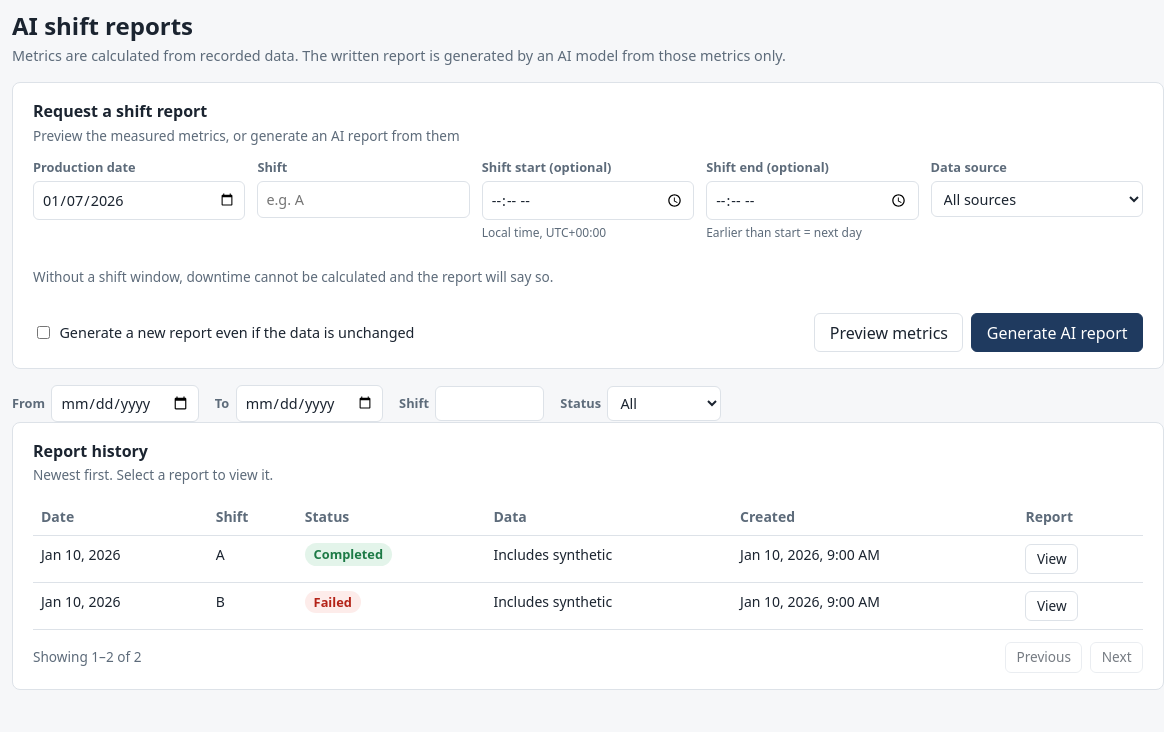
Test case: ReportsPage — form › validates locally before sending anything
Expected: the date field labelled "Production date" holds "2026-01-07", [33,181,245,220]
Click the button "Generate AI report" at (1057, 333), box [971,313,1143,352]
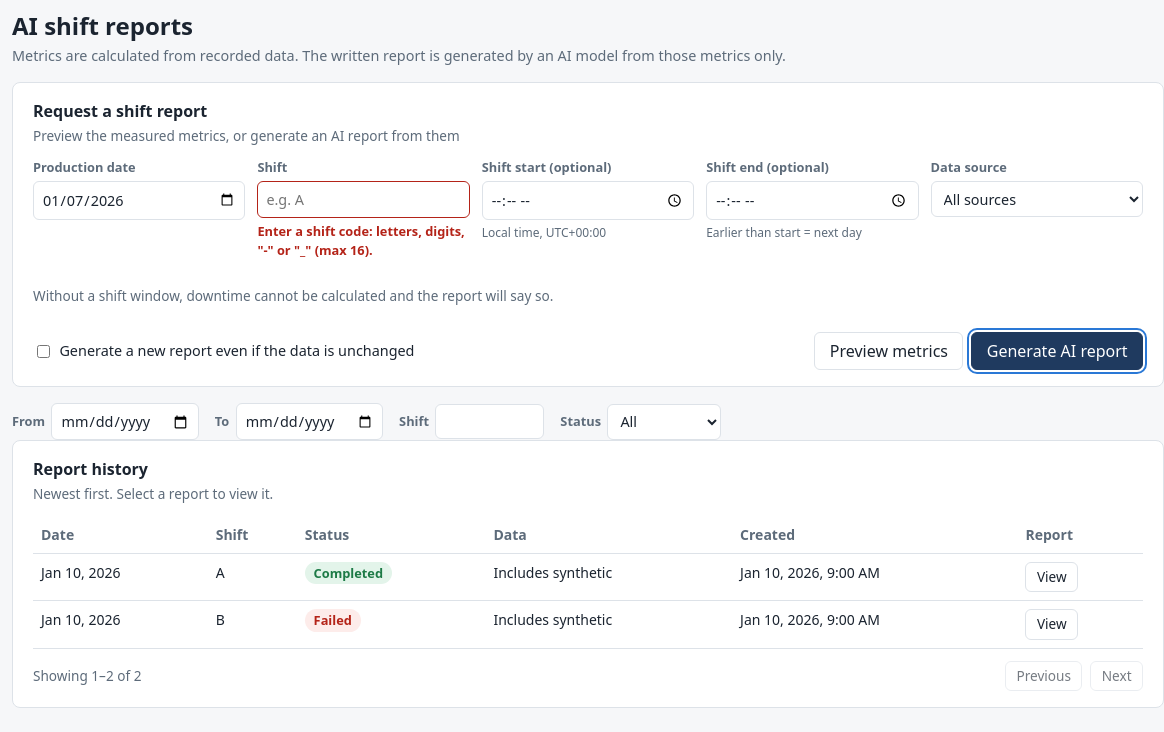
Expected: the text "Enter a shift code: letters, digits, \"-\" or \"_\" (max 16)." is shown, [257,222,470,260]
Type "A" into the field labelled "Shift" below "Production date" at (364, 200), box [257,181,470,218]
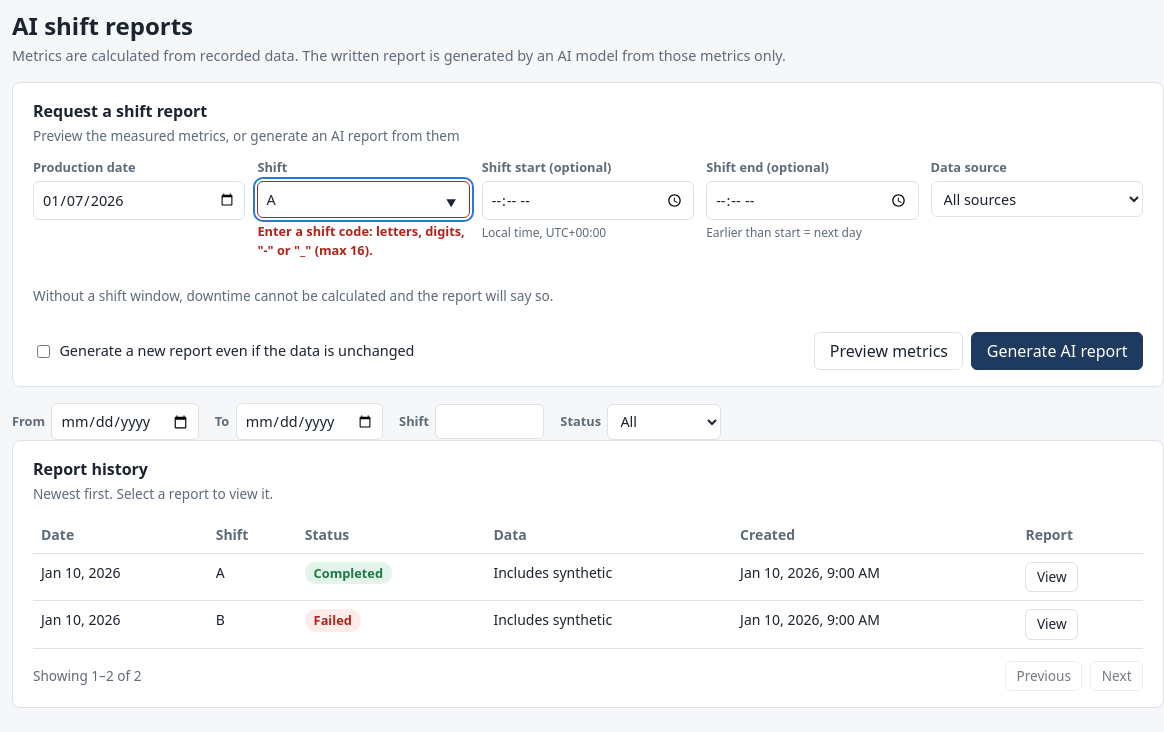
Type "06:00" into the time field labelled "Shift start (optional)" at (588, 201), box [482,181,694,220]
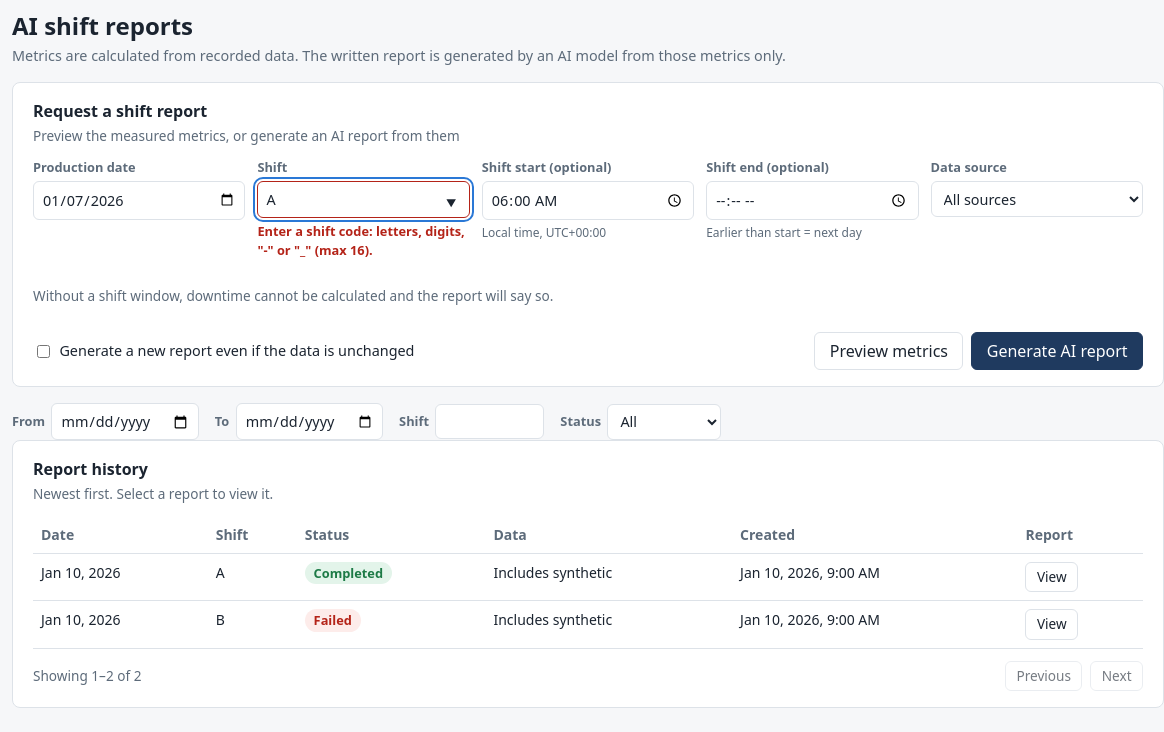
Click the button "Generate AI report" at (1057, 351), box [971,332,1143,370]
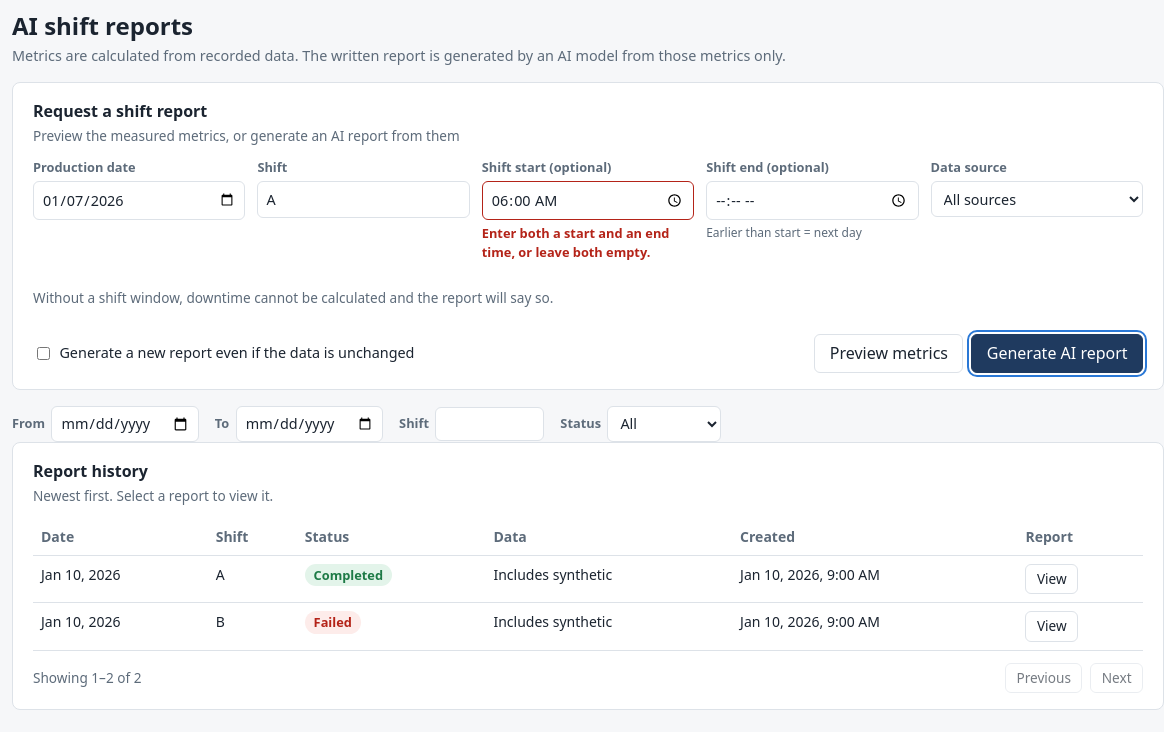
Expected: the text "Enter both a start and an end time, or leave both empty." is shown, [482,224,694,262]
